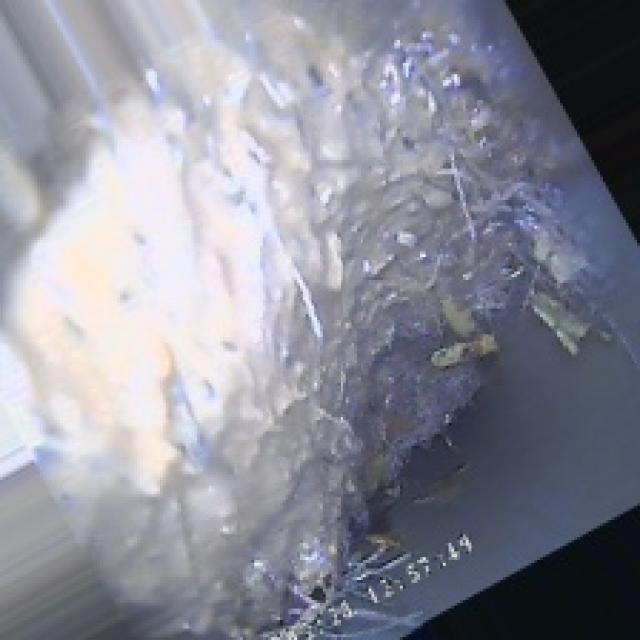sluge accumulation: (80, 57, 540, 543)
